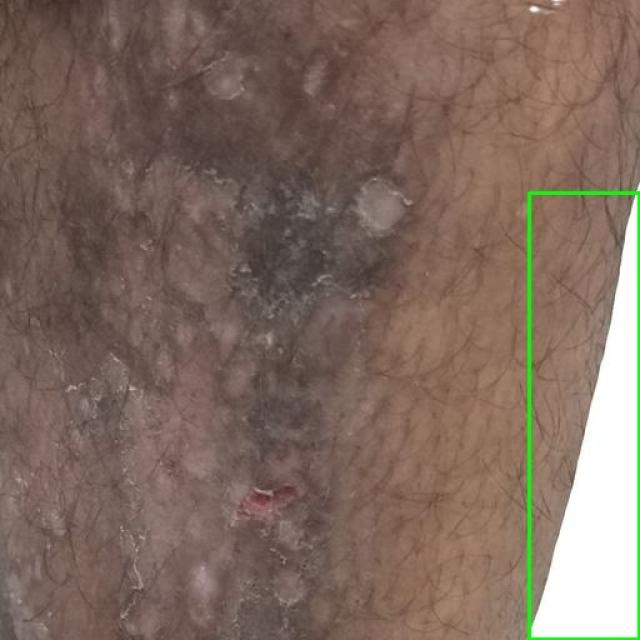Eczema: (529, 192, 639, 639)
